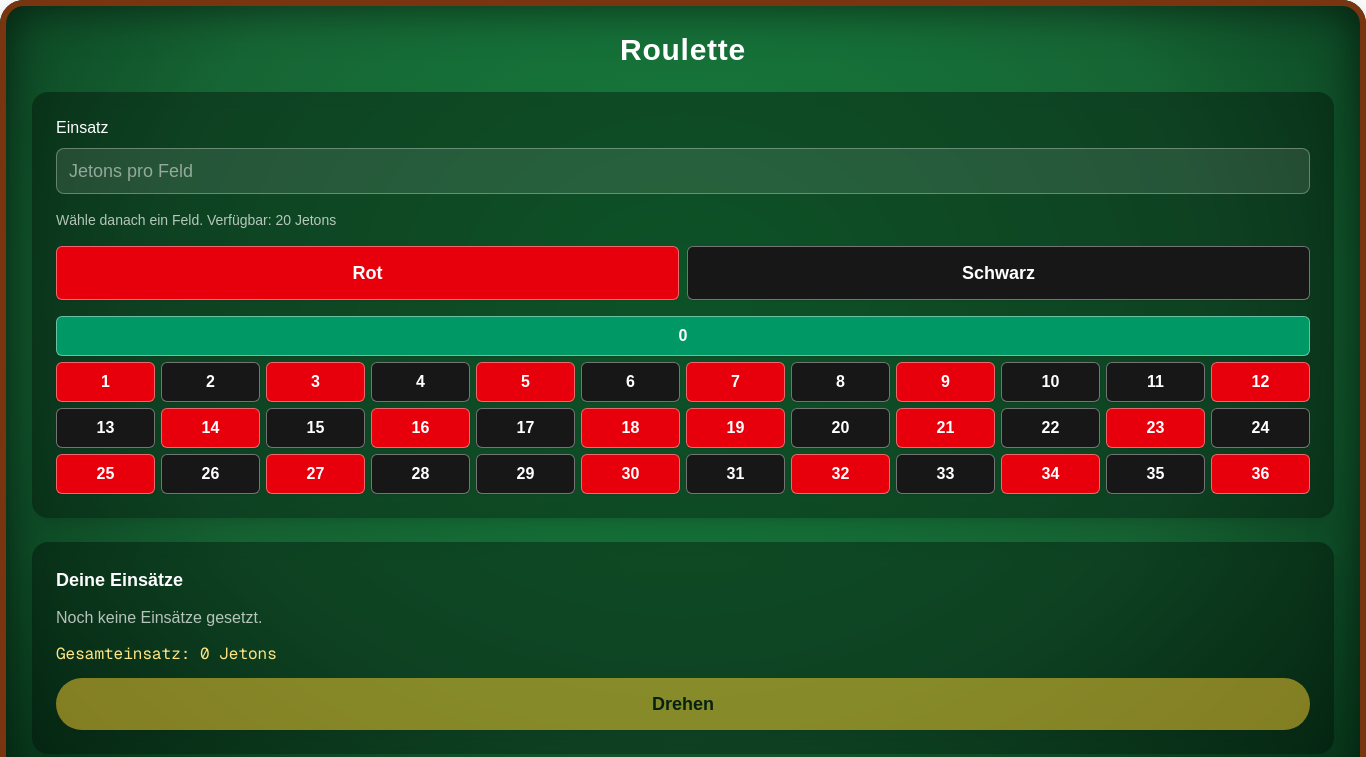
it: RouletteGame: Einsaetze setzen › lehnt Einsaetze ueber dem Guthaben mit Hinweis ab
Type "15" into the field labelled "Einsatz" at (683, 171), box [56,148,1310,194]
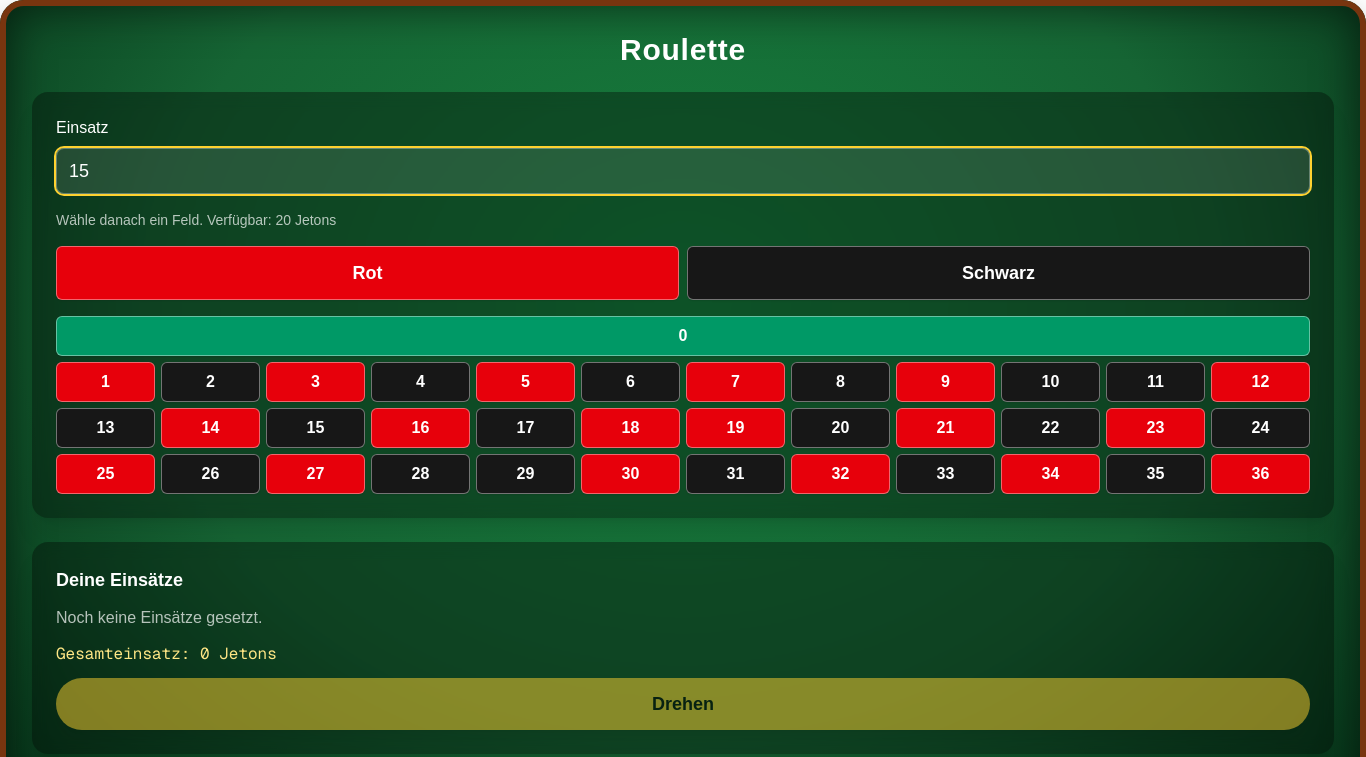
Click the button "Rot" at (368, 273), box [56,246,679,300]
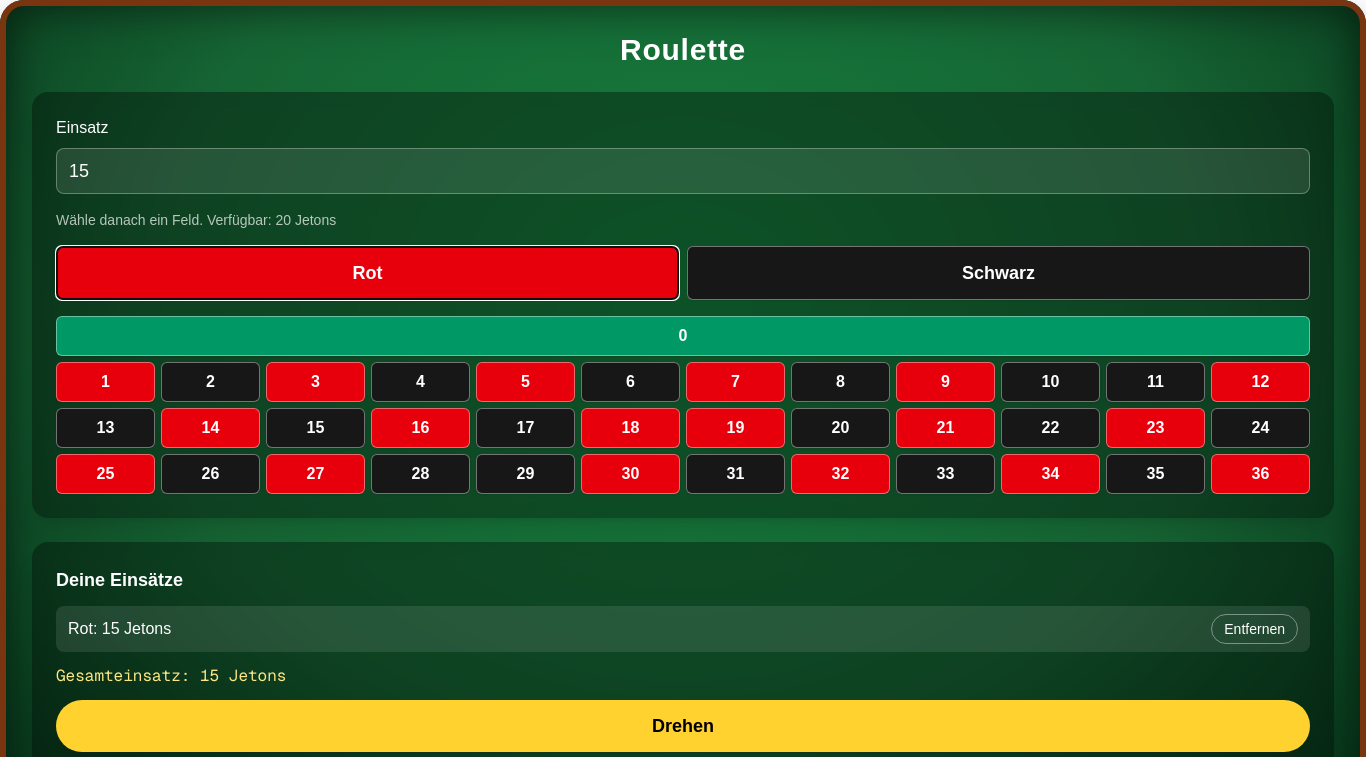
Replace the text in the field labelled "Einsatz" with "6" at (683, 171), box [56,148,1310,194]
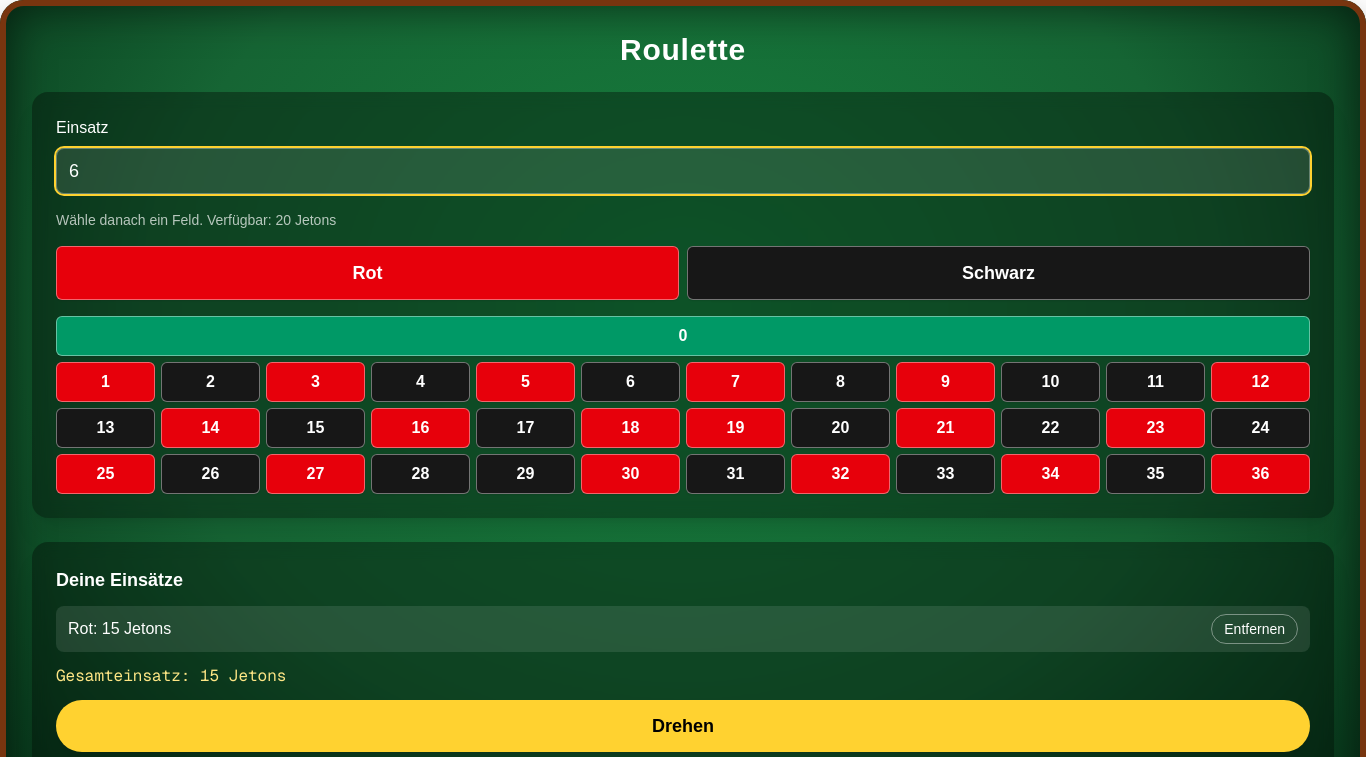
Click the button "Schwarz" at (998, 273), box [687,246,1310,300]
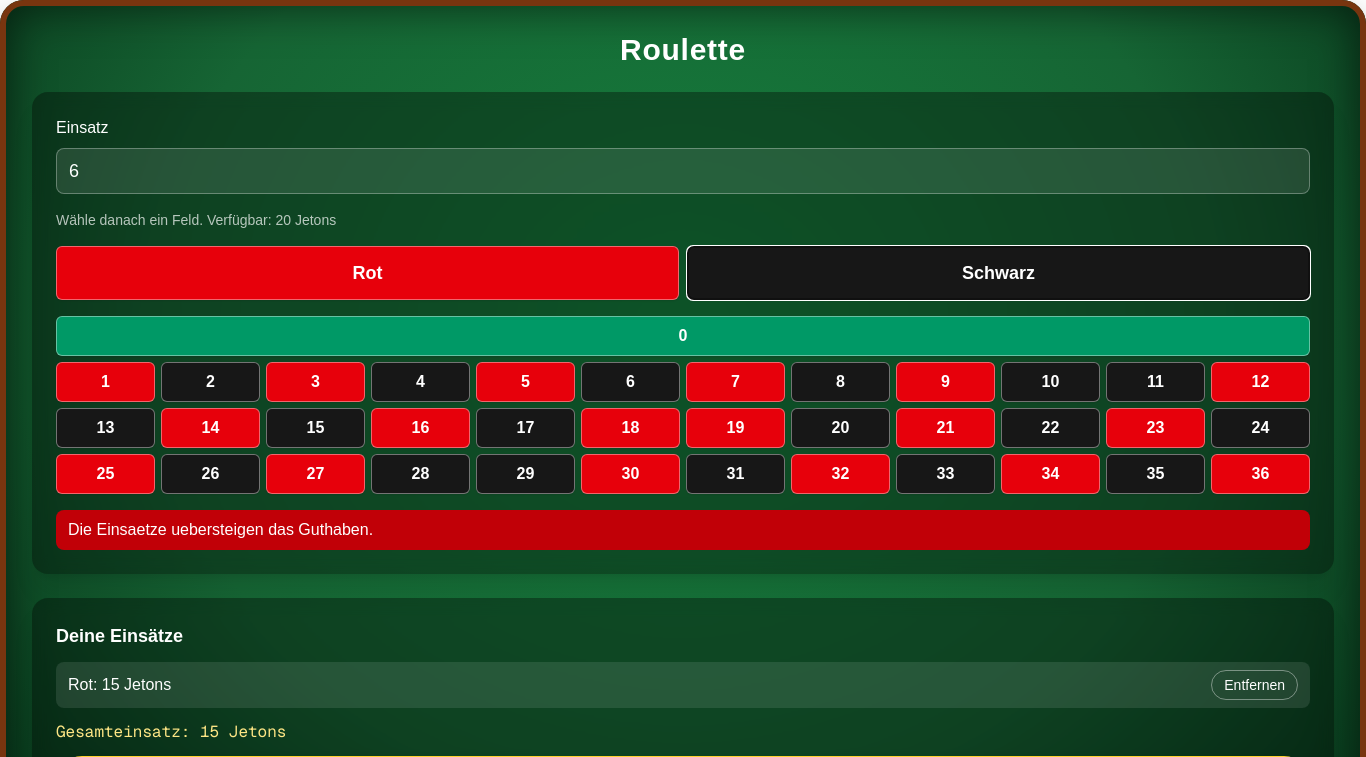
Expected: the number of list items is 1, [56,662,1310,708]
Expected: the message reads "Die Einsaetze uebersteigen das Guthaben.", [68,521,373,538]
